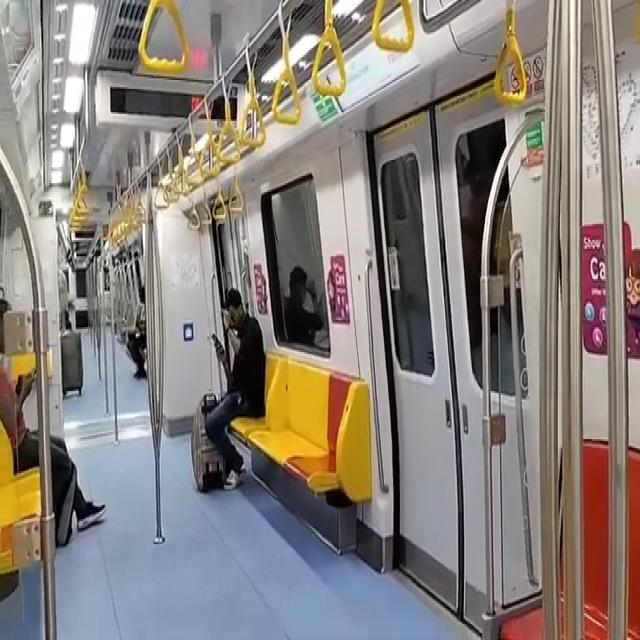bus-door: (374, 87, 506, 626), (490, 173, 539, 601)
